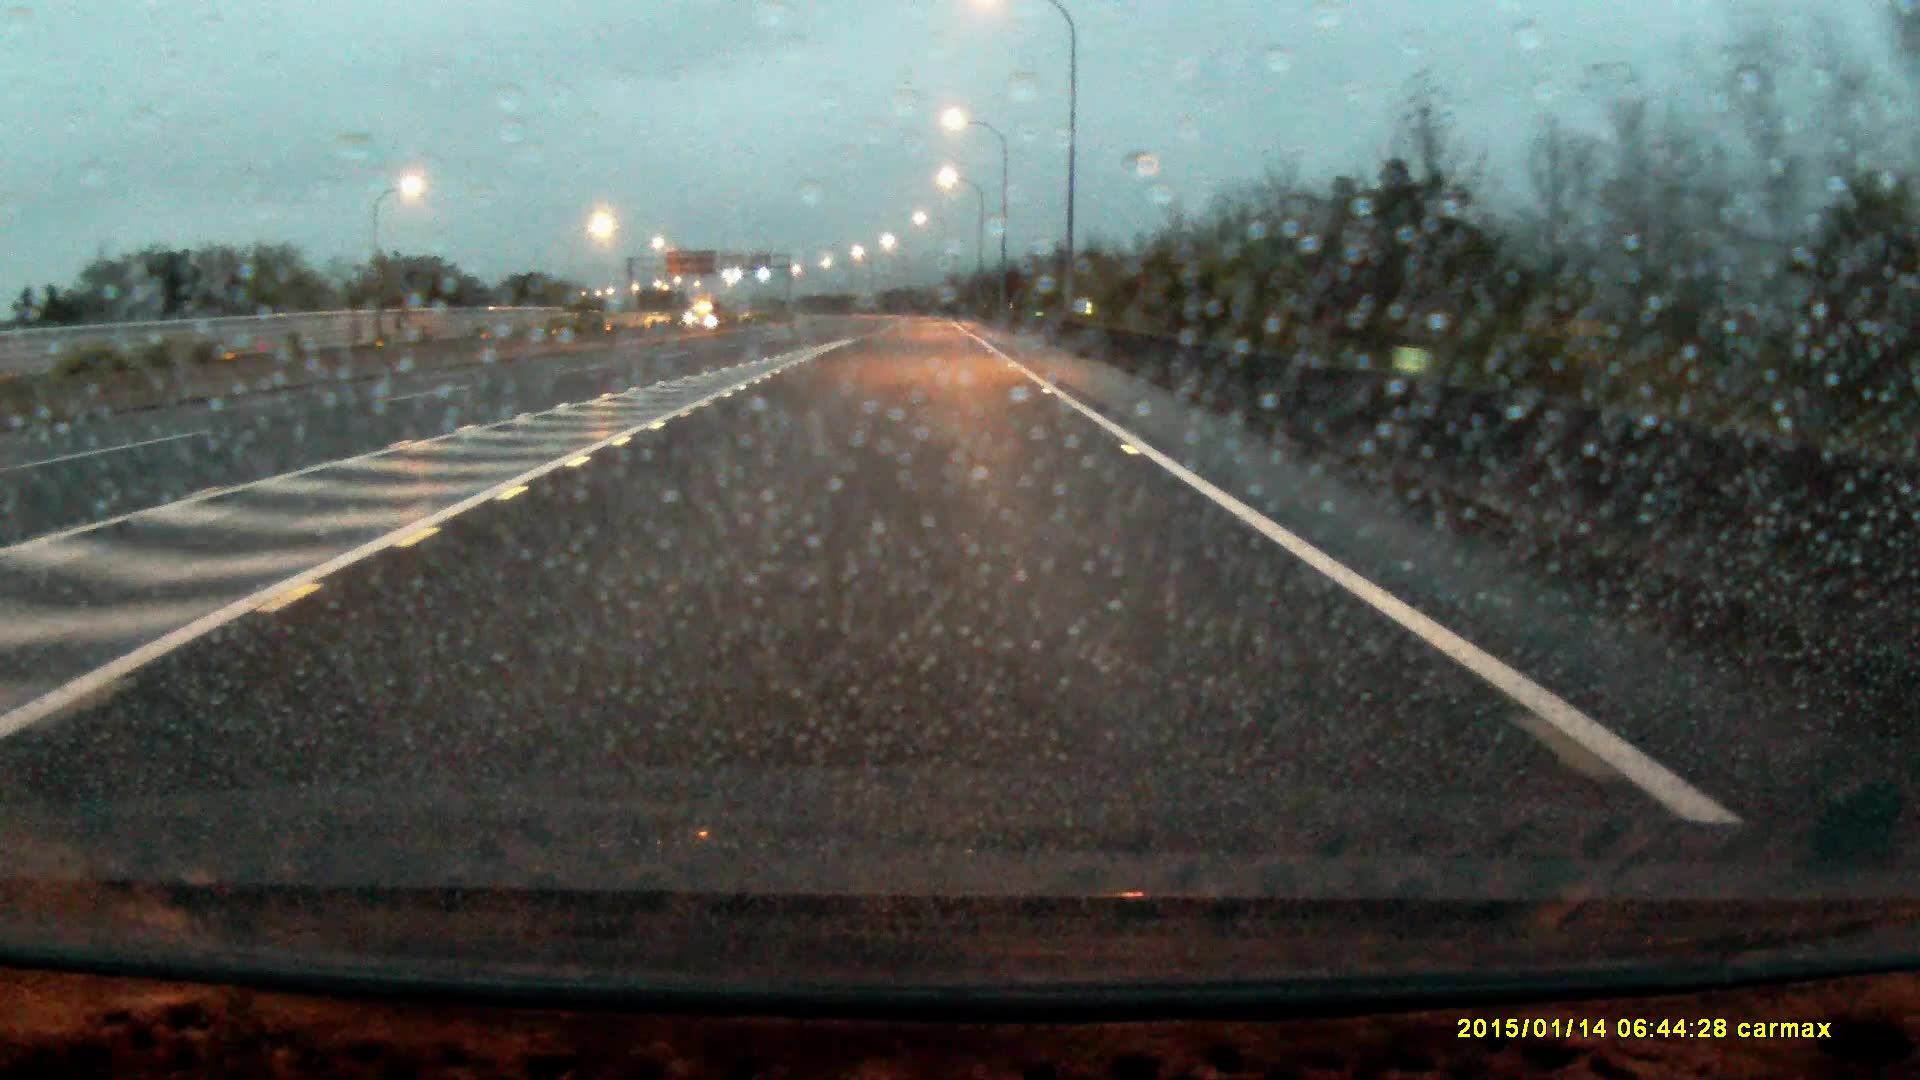vehicle: (688, 301, 723, 327)
